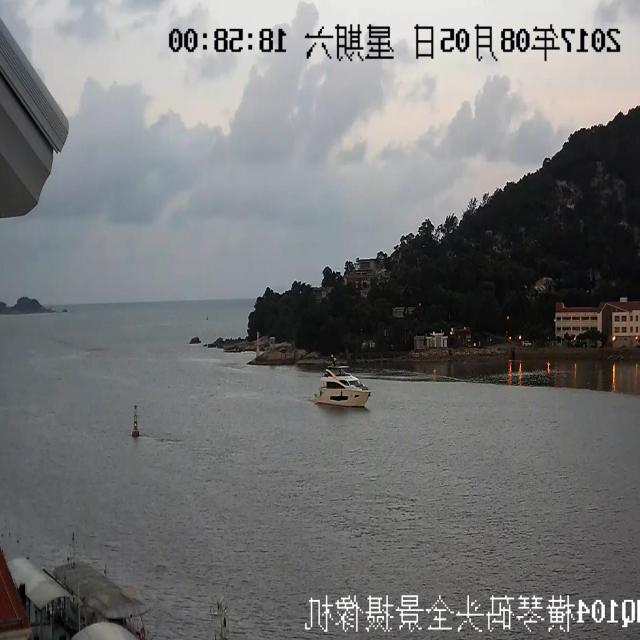buoy: (120, 410, 150, 448)
passenger ship: (308, 345, 370, 426)
reef: (0, 285, 62, 332)
